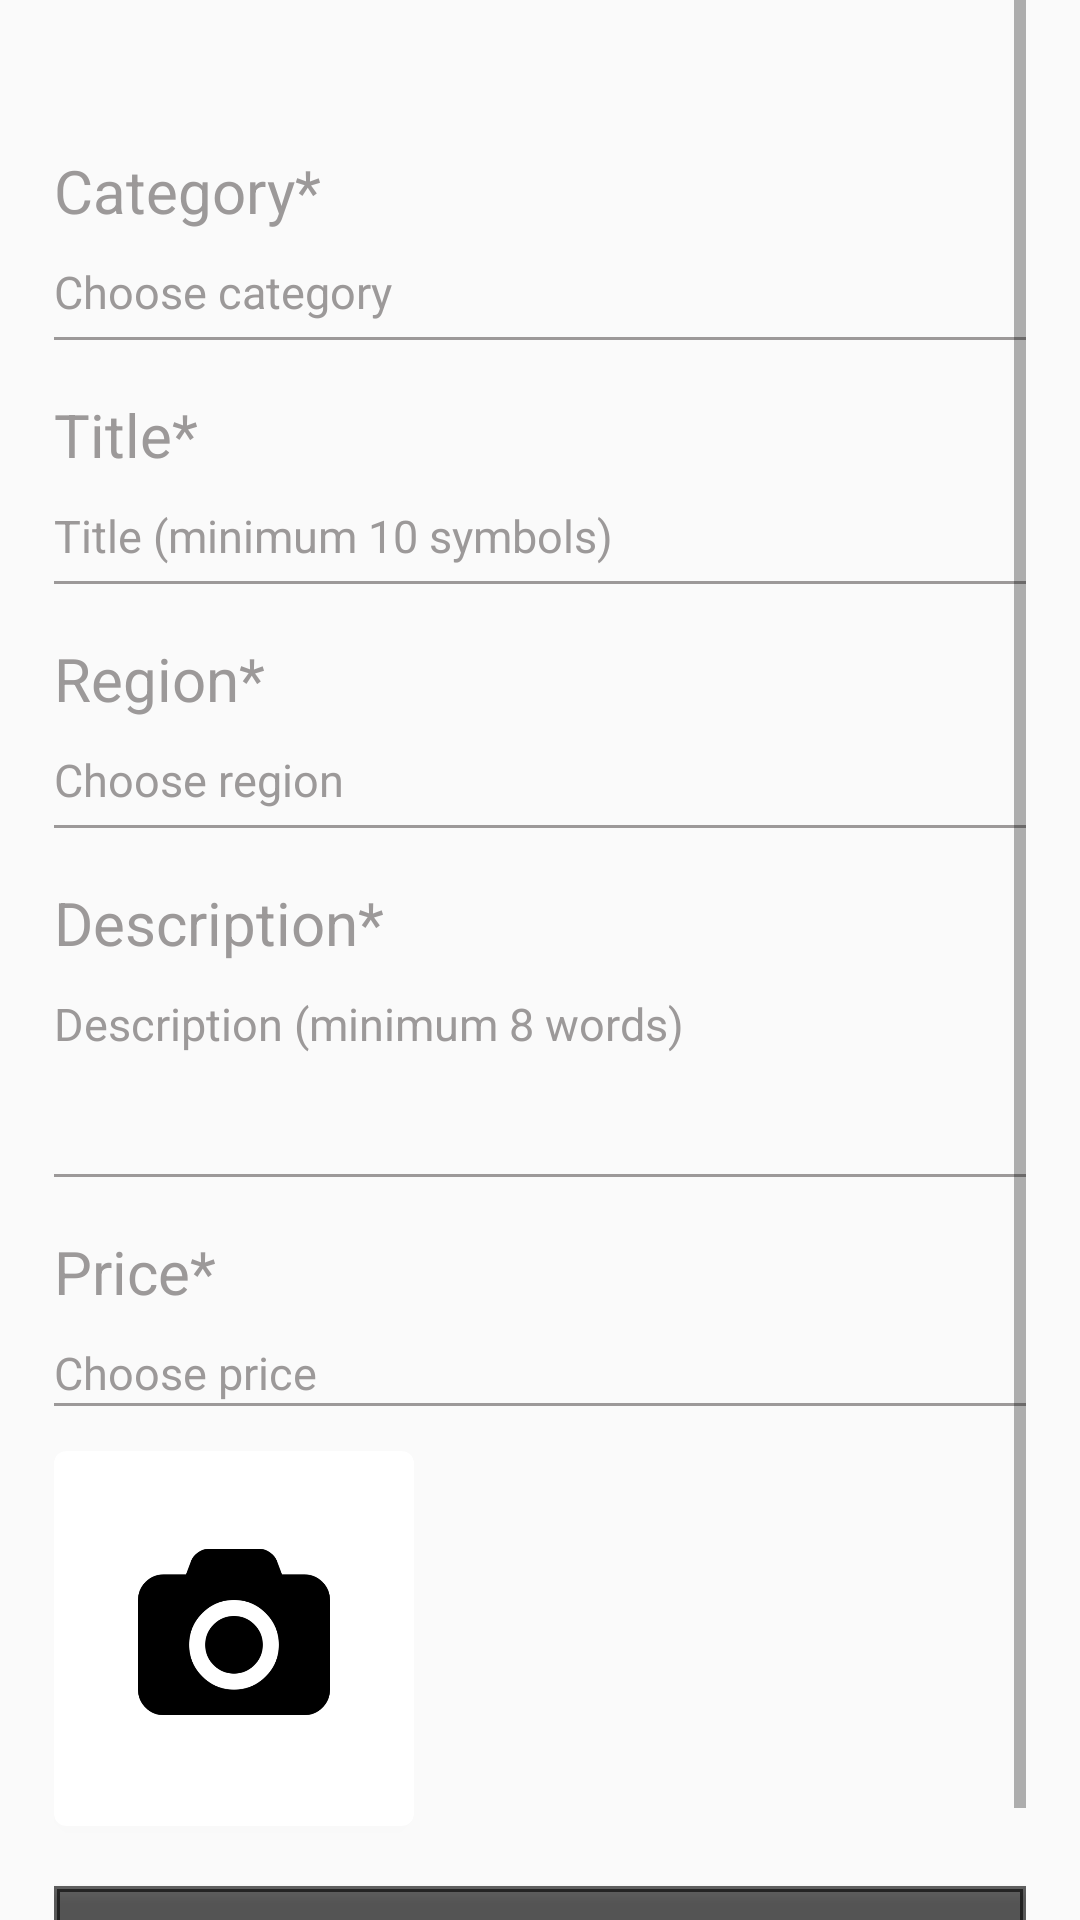

Screen size 1080x1920. Icon name, then its box in pixels as detection(x1, y1, x2, y2):
camera: detection(138, 1549, 330, 1715)
